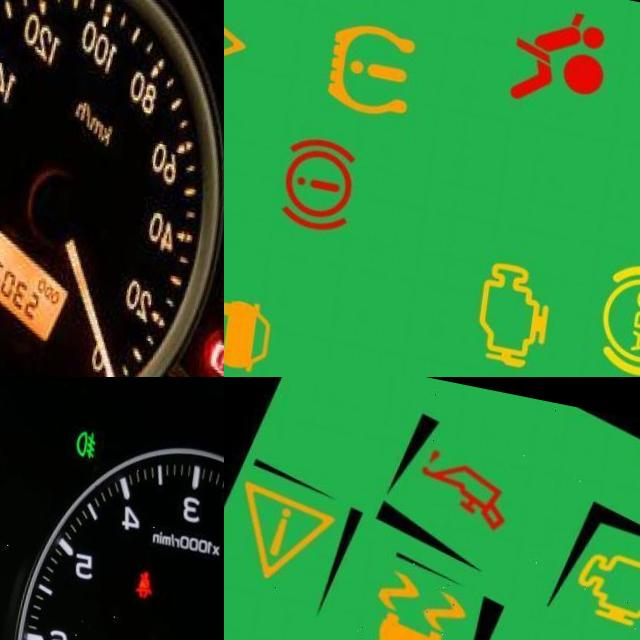Seat Belt: (143, 546, 165, 580)
